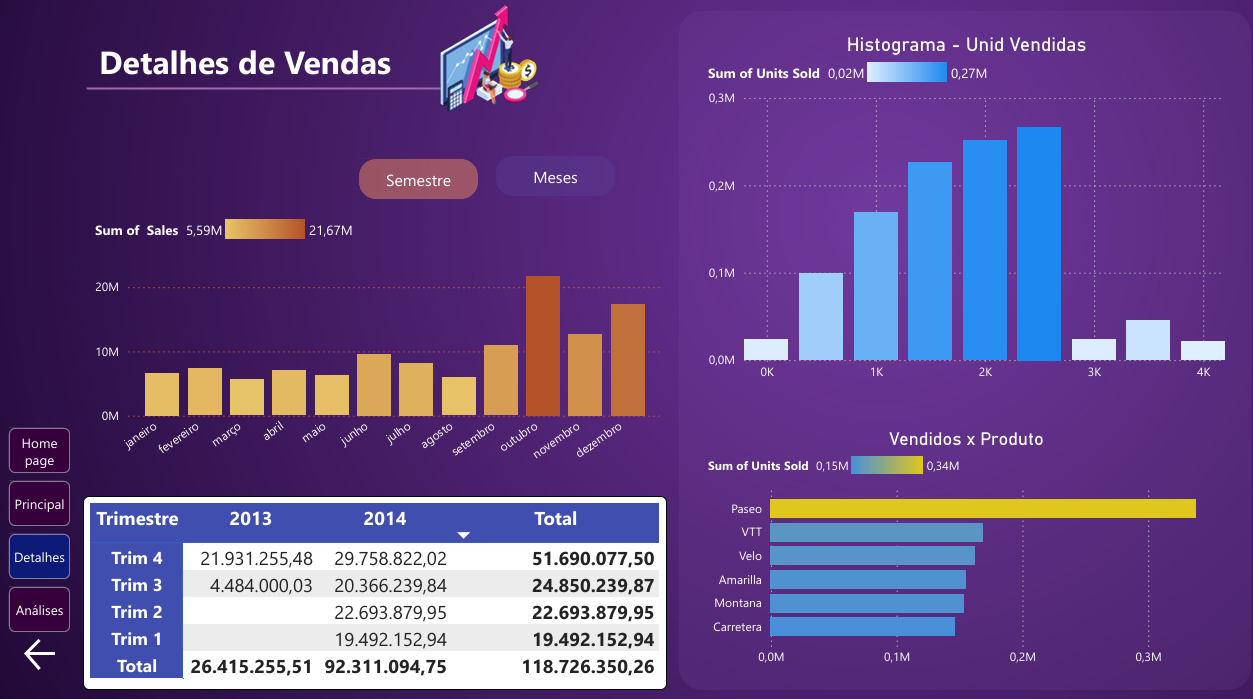

The dashboard page shown, as its layout file describes it:
{"tool":"powerbi","page":{"name":"Detalhes","canvas":[1280,720],"ordinal":2},"visuals":[{"type":"image","title":"Fundo - Roxo","box":[9.8,0,1269.8,719.9],"z":0},{"type":"shape","box":[102,76.8,370.9,37.6],"z":0,"group":"g1"},{"type":"textbox","box":[109.2,40.5,333.2,58.9],"z":1000,"group":"g1"},{"type":"pivotTable","title":"Matriz - Vendas por Trimestre","fields":{"Rows":["financials.Date.Variation.Hierarquia de datas.Trimestre"],"Columns":["financials.Date.Variation.Hierarquia de datas.Ano"],"Values":["Sum(financials. Sales)"]},"box":[97.6,503.4,584.2,193.8],"z":1000},{"type":"columnChart","fields":{"Category":["financials.Date.Variation.Hierarquia de datas.Mês"],"Y":["Sum(financials. Sales)"]},"box":[104.6,219.4,577.3,270],"z":1500,"group":"g2"},{"type":"actionButton","title":"B-Meses","box":[510.8,163.1,118.3,40.4],"z":1750,"group":"g2"},{"type":"image","box":[440.3,7,127.2,117.1],"z":2000,"group":"g1"},{"type":"shape","title":"F-Histograma-Produto","box":[694.4,18.1,571.7,679],"z":2000},{"type":"actionButton","title":"B-Semestre ","box":[374.1,165.7,118.3,40.4],"z":2000,"group":"g2"},{"type":"clusteredBarChart","title":"Unid. Vendidas por Produto","fields":{"Category":["financials.Product"],"Y":["Sum(financials.Units Sold)"]},"box":[718.1,435,527.1,246.8],"z":3000},{"type":"group","id":"g1","title":"Detalhes de Vendas","box":[102,7,465.5,117.1],"z":4000},{"type":"columnChart","title":"Histograma Unid-Vendidas","fields":{"Y":["Sum(financials.Units Sold)"],"Category":["financials.Buckets 2"]},"box":[718.1,40.4,527.1,356.9],"z":5000},{"type":"group","id":"g2","title":"Vendas Mês/Semestre","box":[104.6,163.1,577.3,326.3],"z":6000},{"type":"pageNavigator","box":[23.7,435,61.4,205],"z":8000,"group":"g3"},{"type":"group","id":"g3","title":"Menu","box":[23.7,435,61.4,246.8],"z":8001},{"type":"actionButton","box":[34.9,641.4,50.2,40.4],"z":8500,"group":"g3"}]}

Visuals, with their boxes in screenshot pixels (x1, y1, x2, y2), scaled from the page's 1280x720 canvas onto the 1253x699 screenshot:
"Fundo - Roxo" image: <region>10, 0, 1252, 698</region>
shape: <region>100, 75, 463, 111</region>
textbox: <region>107, 39, 433, 97</region>
"Matriz - Vendas por Trimestre" pivotTable: <region>96, 489, 667, 677</region>
columnChart - financials.Date.Variation.Hierarquia de datas.Mês x Sum(financials. Sales): <region>102, 213, 668, 475</region>
"B-Meses" actionButton: <region>500, 158, 616, 198</region>
image: <region>431, 7, 556, 120</region>
"F-Histograma-Produto" shape: <region>680, 18, 1239, 677</region>
"B-Semestre " actionButton: <region>366, 161, 482, 200</region>
"Unid. Vendidas por Produto" clusteredBarChart: <region>703, 422, 1219, 662</region>
"Detalhes de Vendas" group: <region>100, 7, 556, 120</region>
"Histograma Unid-Vendidas" columnChart: <region>703, 39, 1219, 386</region>
"Vendas Mês/Semestre" group: <region>102, 158, 668, 475</region>
pageNavigator: <region>23, 422, 83, 621</region>
"Menu" group: <region>23, 422, 83, 662</region>
actionButton: <region>34, 623, 83, 662</region>
